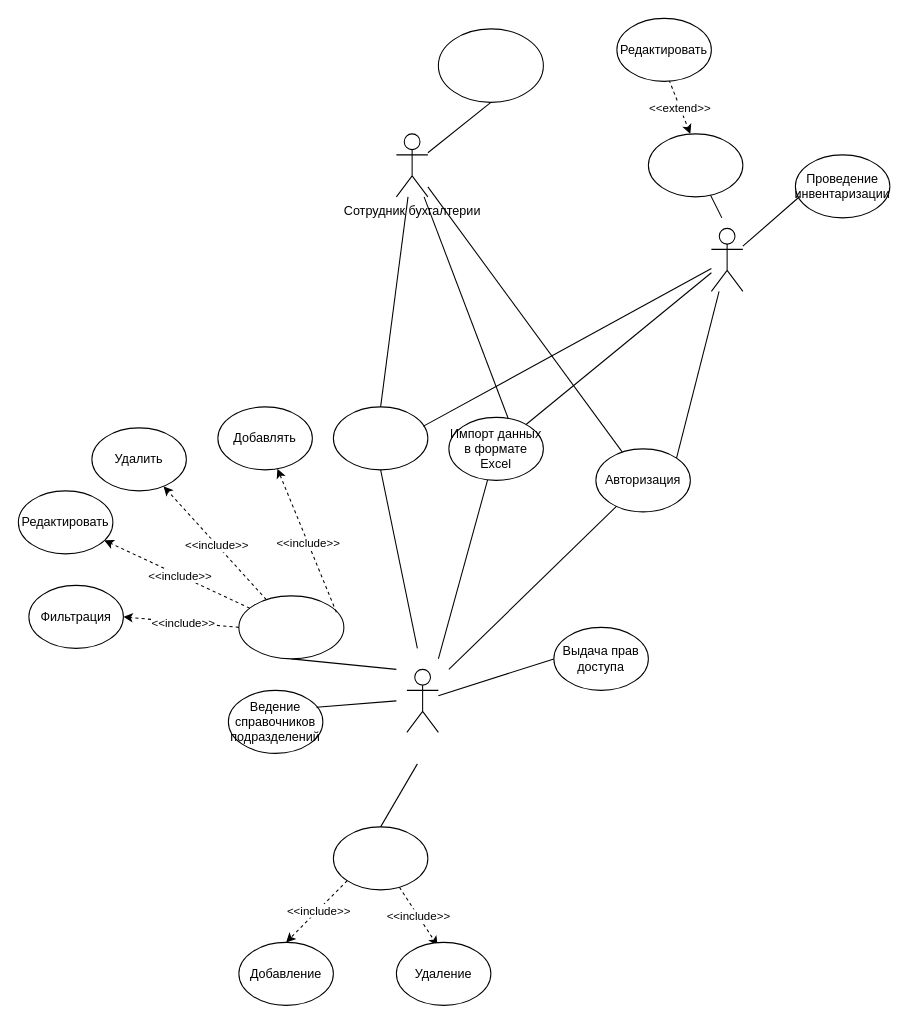
This 908x1024 diagram has some shape labels left out. Here are the shapes that lost their labels. From the top down, the box of each, then its label:
(437, 28, 543, 102): Просмотр и проверка данных по всем подразделениям
(647, 133, 743, 197): Просмотреть данные своего подразделения
(710, 227, 743, 291): МОЛ
(332, 406, 428, 470): Формирование отчётов в *.pdf
(238, 595, 344, 659): Категории имущества
(406, 668, 438, 732): Администратор
(332, 826, 428, 890): Управление пользователями
